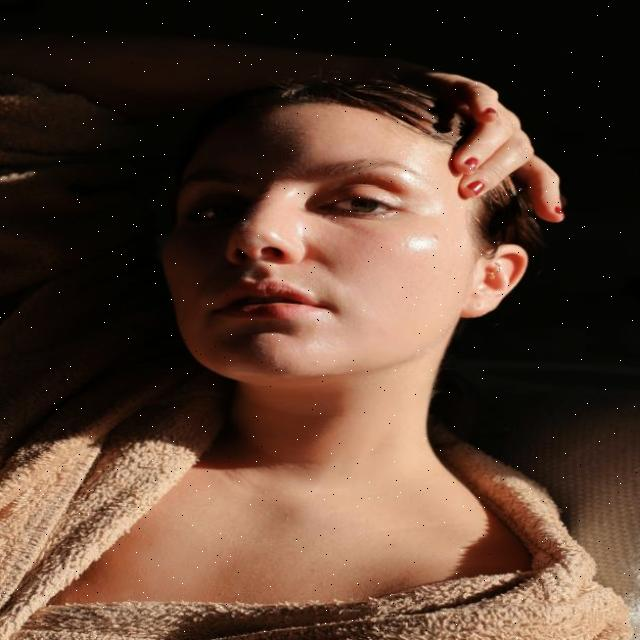puffy_eyes: (316, 212, 409, 239)
